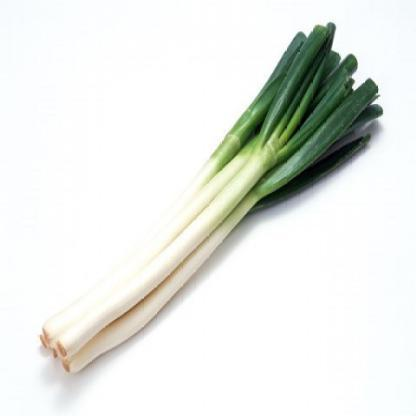green onion: (40, 12, 372, 364)
